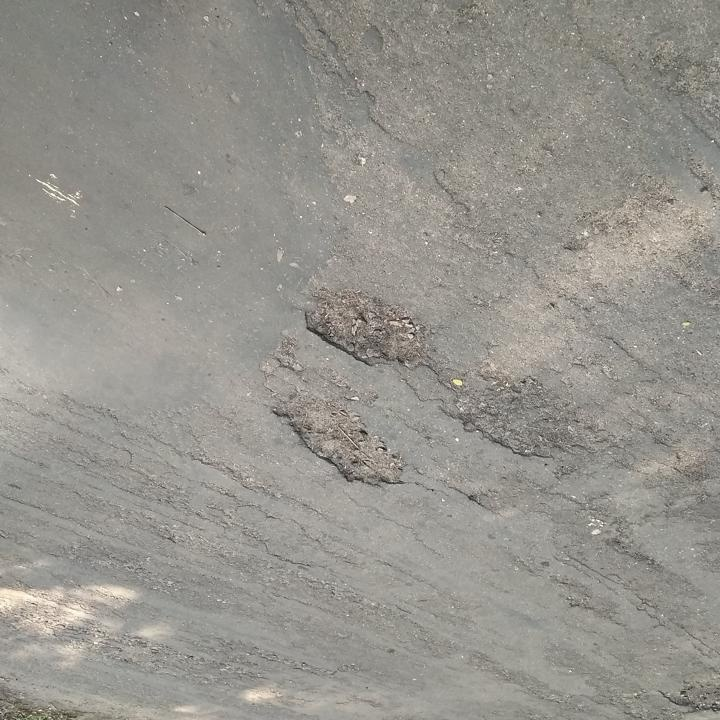pothole: (264, 390, 409, 493), (430, 369, 587, 462), (298, 283, 430, 373)
